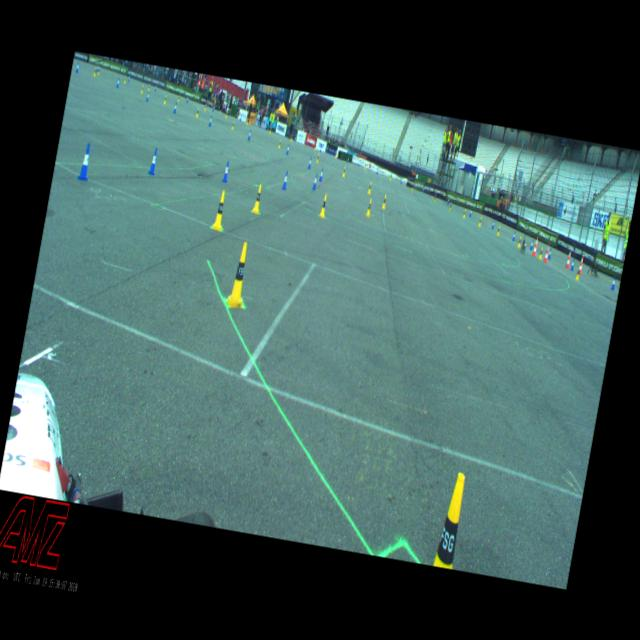blue_cone: (76, 143, 92, 180), (148, 147, 158, 175), (222, 160, 230, 182), (281, 170, 289, 190), (610, 275, 616, 290), (312, 172, 317, 189), (318, 168, 324, 181), (570, 258, 576, 270), (547, 247, 552, 259), (286, 142, 290, 155), (308, 156, 312, 168), (247, 128, 251, 140), (116, 76, 120, 88), (173, 101, 177, 113), (530, 238, 534, 249), (512, 230, 516, 241), (491, 218, 495, 229), (208, 115, 212, 126), (76, 61, 80, 72), (146, 90, 150, 101), (468, 208, 472, 216), (154, 82, 157, 91), (446, 196, 449, 204), (186, 94, 188, 102)
large_orange_cone: (542, 242, 550, 262), (565, 247, 572, 268), (532, 236, 538, 256), (578, 256, 584, 274)
yellow_cone: (433, 470, 469, 569), (226, 242, 252, 308), (211, 189, 228, 231), (252, 183, 262, 213), (318, 194, 328, 218), (365, 198, 372, 216), (574, 265, 580, 280), (381, 193, 386, 208), (538, 247, 543, 260), (517, 235, 522, 248), (342, 164, 346, 177), (368, 180, 372, 193), (496, 224, 500, 236), (195, 106, 199, 118), (316, 151, 320, 162), (478, 216, 482, 227), (163, 93, 167, 104), (230, 120, 234, 130), (93, 66, 97, 76), (123, 74, 127, 84), (462, 208, 466, 218), (140, 84, 144, 93), (177, 92, 180, 101), (449, 201, 452, 210), (433, 193, 436, 202), (278, 137, 280, 148), (204, 102, 206, 111), (148, 82, 150, 90)
